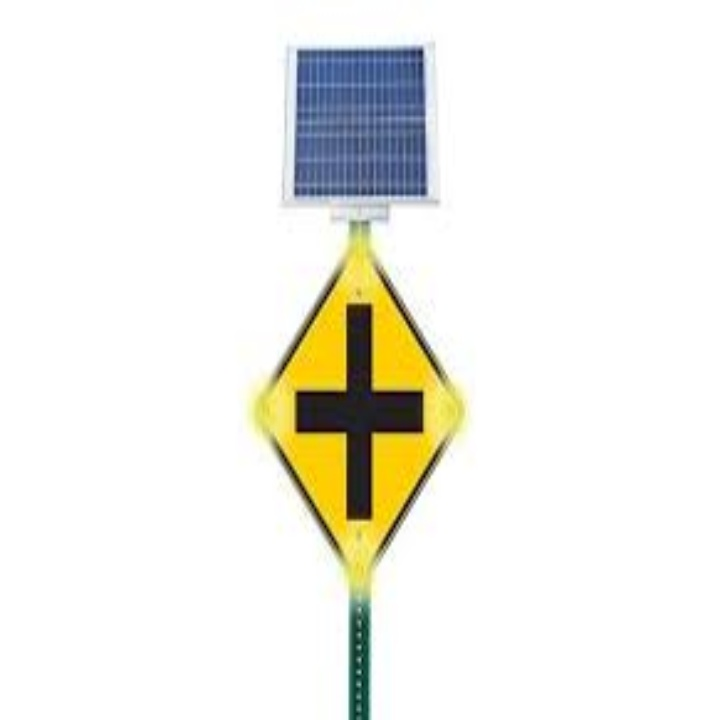inter: (288, 293, 429, 538)
